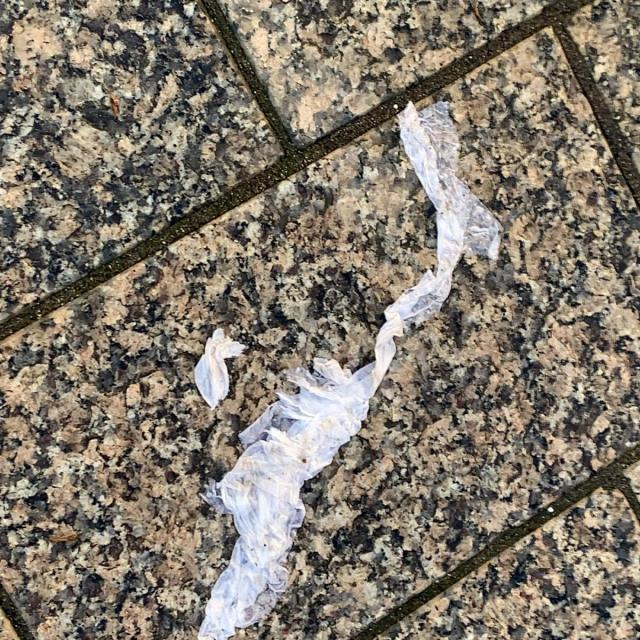Paper: (194, 98, 506, 640), (194, 324, 248, 413)
